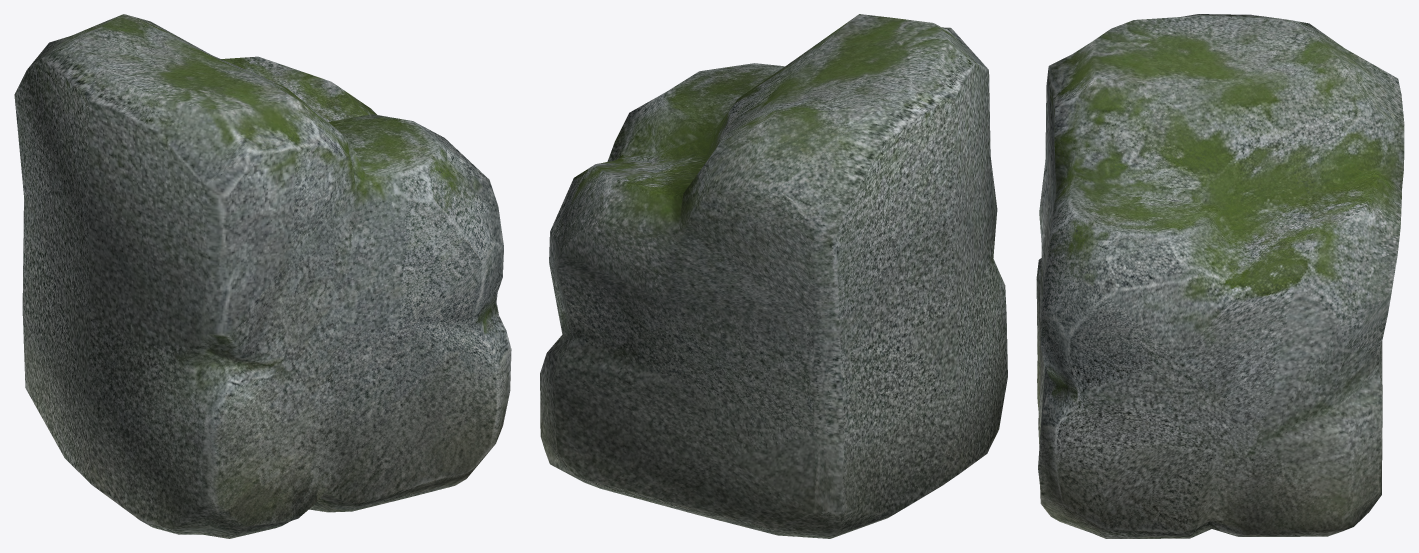
Rendered from rock.glb.
3 views of the same model, side by side, from view 1: azimuth 30°, elevation 25°; view 2: azimuth 150°, elevation 25°; view 3: azimuth 270°, elevation 25° (orthographic). The views are drawn at different scales.
Visible parts, largest first — view 1: rock; view 2: rock; view 3: rock.
Boxes of the visible parts, x1,y1,x2,y2 form: rock: (14, 14, 511, 538); rock: (540, 14, 1007, 538); rock: (1036, 14, 1404, 538).
Size of the model in its own units: 0.8823 by 0.9995 by 0.856.
1 material, 1 textured.
